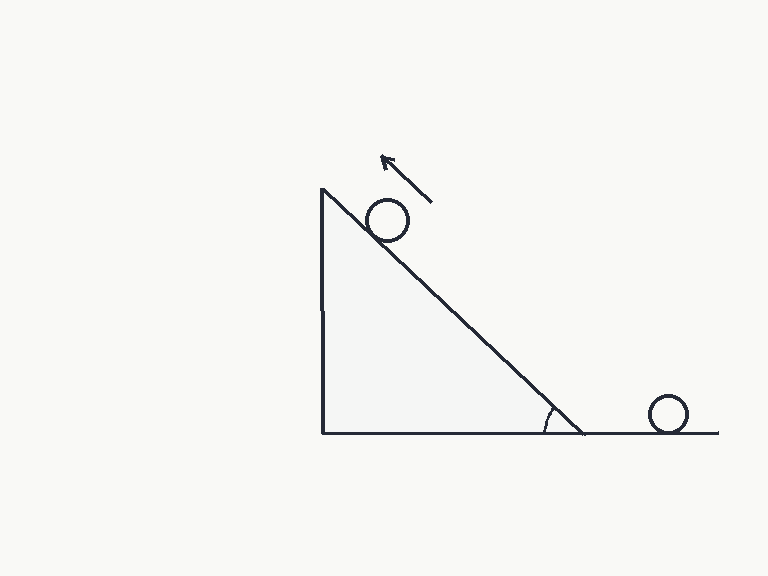ball: (363, 196, 411, 244), (646, 392, 690, 436)
ramp: (320, 188, 586, 436)
